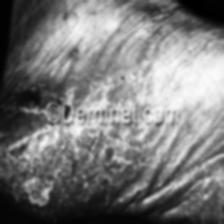Non-Cancerous Skin Condition: (0, 70, 133, 212), (171, 132, 224, 223)
